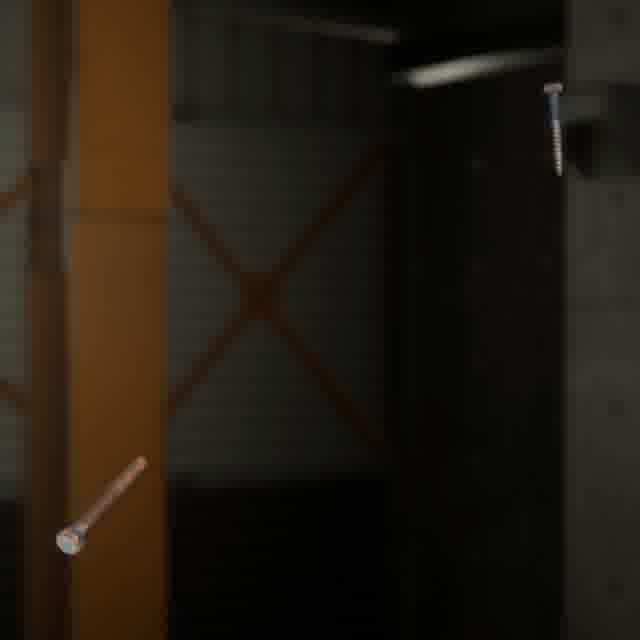bolt: (51, 451, 152, 559), (538, 78, 567, 181)
